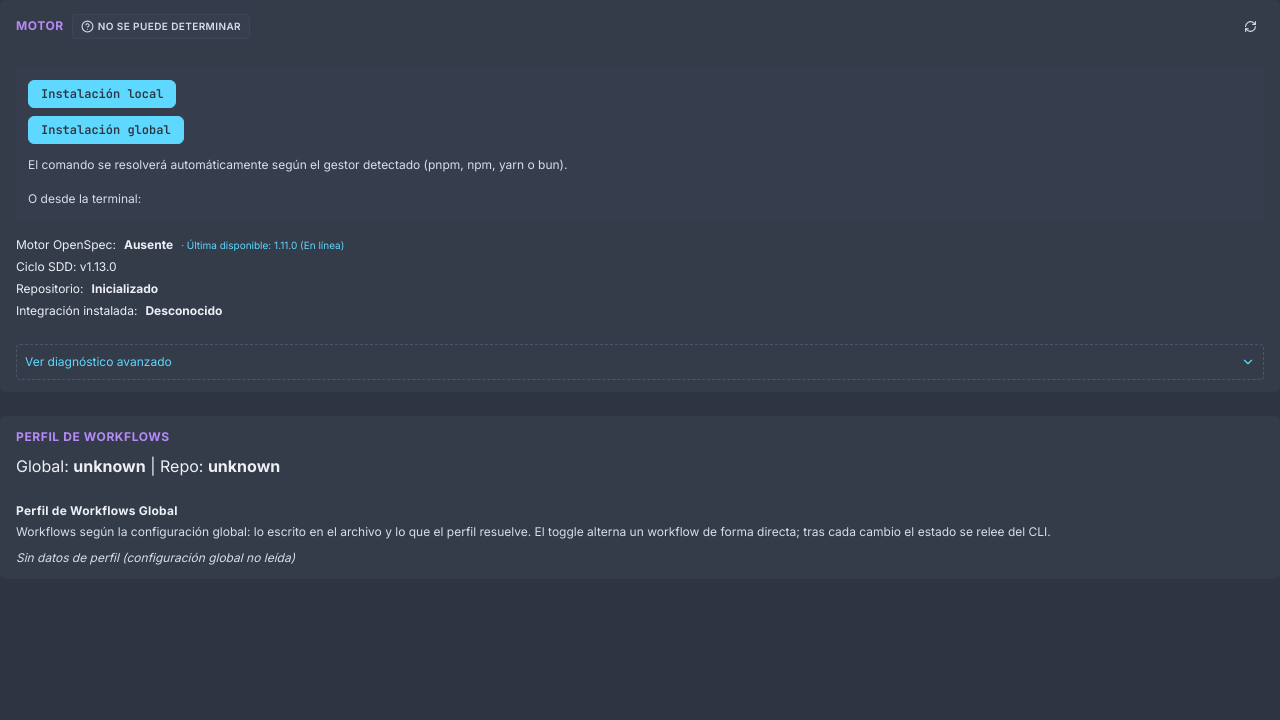
Test: OpenSpecEngineCard (UI Audit Tests & Jerarquía) › Superficie de motor e instalación honesta (Grupo 9: 9.1, 9.2, 9.3, 9.5) › 9.3: el botón «Cancelar» cierra la confirmación sin ejecutar la instalación global
The width and height of the screenshot is (1280, 720).
Click the button "Instalación global": (106, 130) [28,116,184,144]
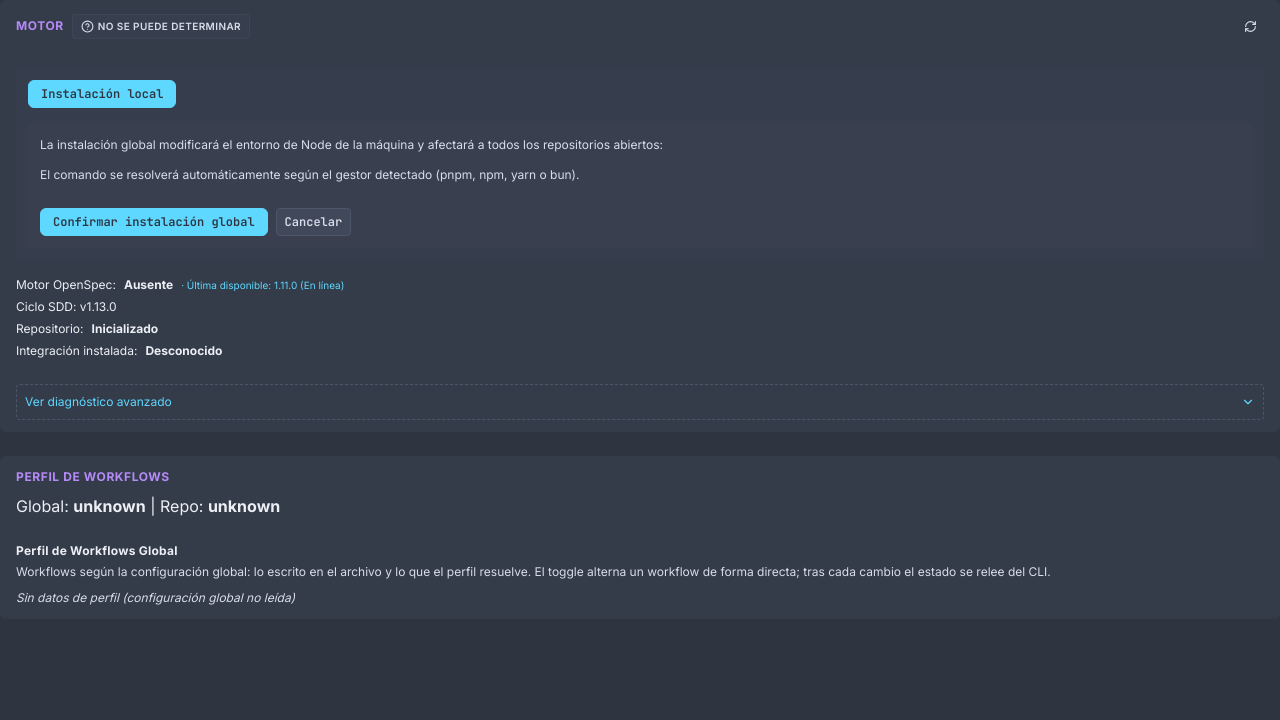
Now the button "Confirmar instalación global" is shown, box [40,208,268,236]
Click the button "Cancelar": (313, 222) [276,208,351,236]
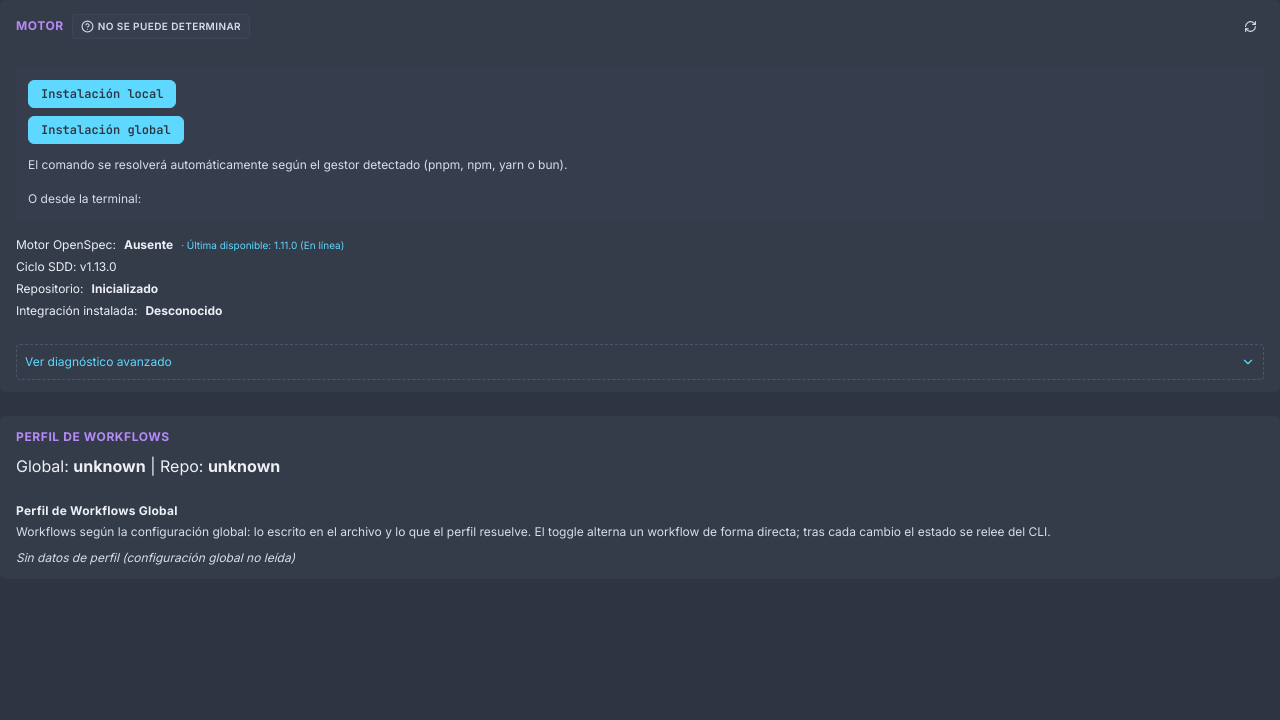
Expected: the button "Instalación global" is shown, [28,116,184,144]
Now the button "Confirmar instalación global" is gone
